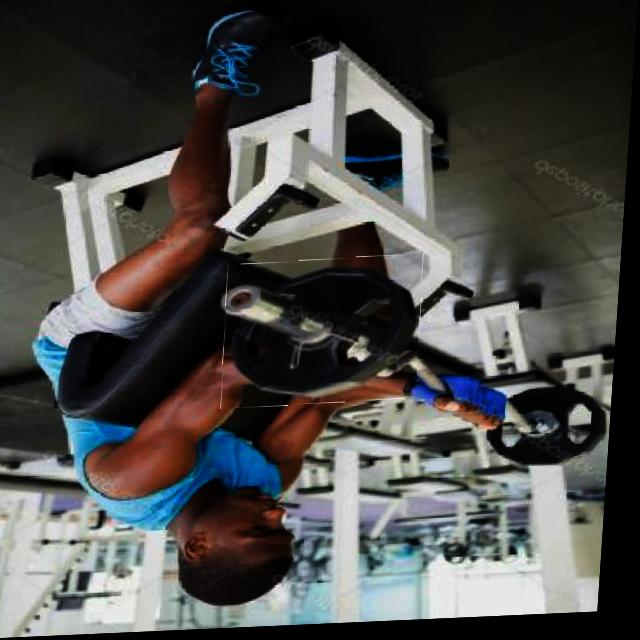barbell: (225, 259, 429, 411)
